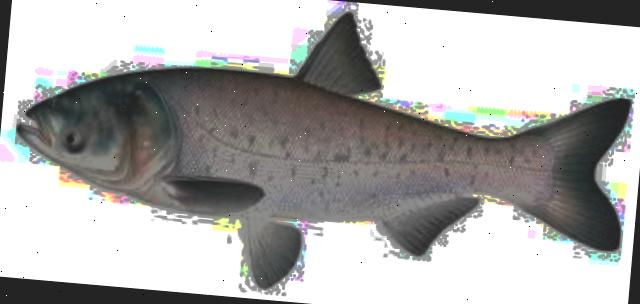Healthy Fish: (16, 15, 626, 286)
